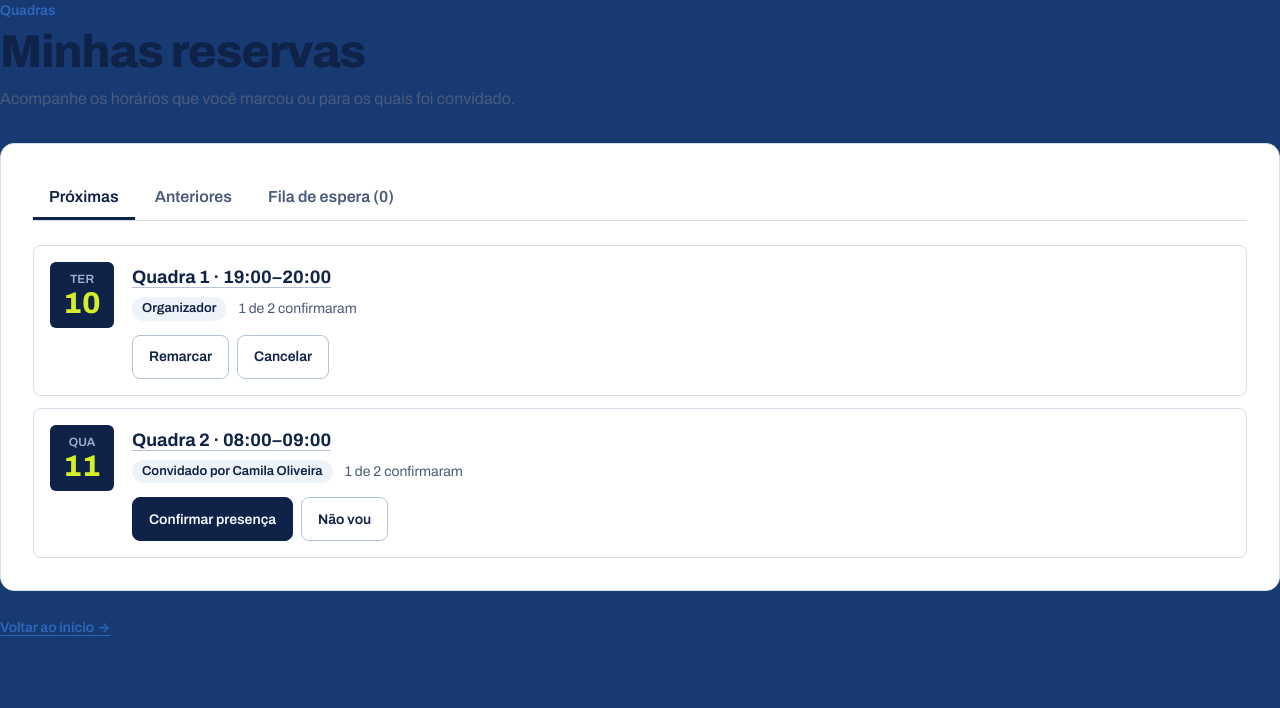
Test: BookingsPage cancelamento › cancelar pede confirmação e "Manter reserva" não altera nada e devolve o foco
This screenshot has width=1280, height=708.
What coordinates should you click on to do the following:
click the button with aria-label "Cancelar reserva da Quadra 1 em ter., 10 de nov. 19:00"
I would click on:
 (283, 357)
Its box is [237, 335, 329, 379].
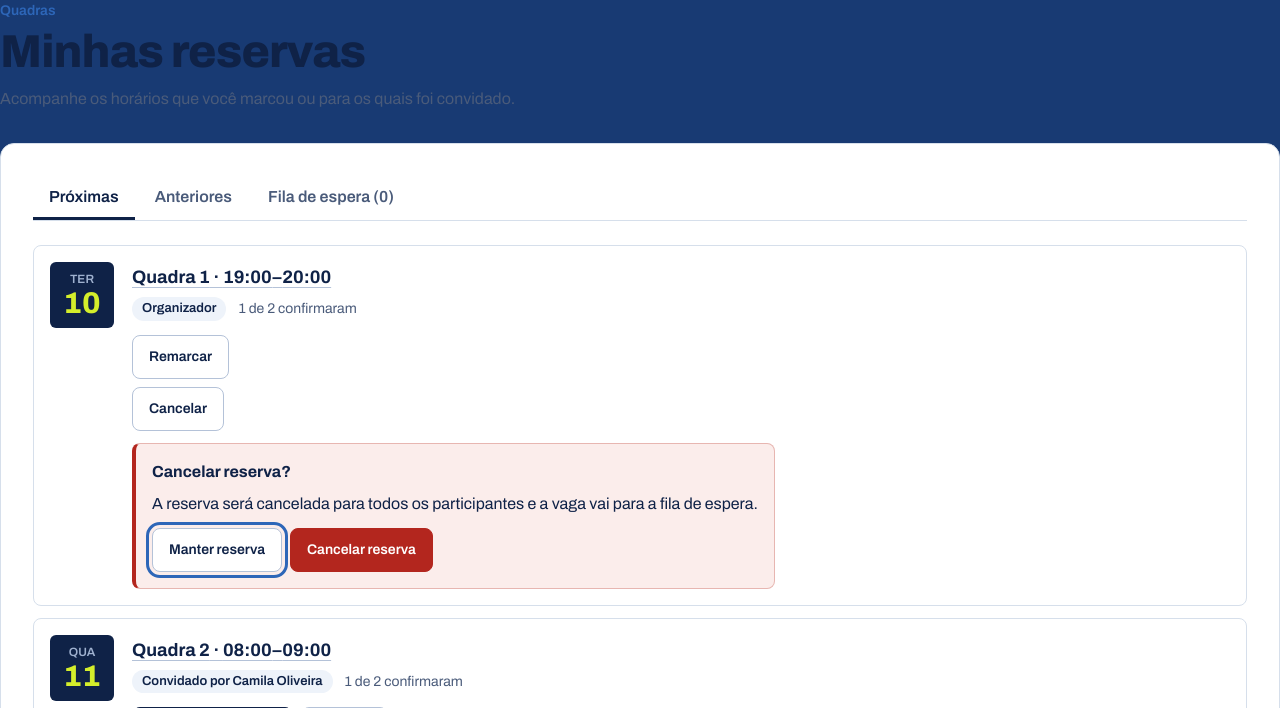
Expected: the text "A reserva será cancelada para todos os participantes e a vaga vai para a fila de espera." is shown, [152, 495, 758, 512]
What coordinates should you click on to do the following:
click the button "Manter reserva"
I would click on:
 (217, 550)
Its box is [152, 528, 282, 572].
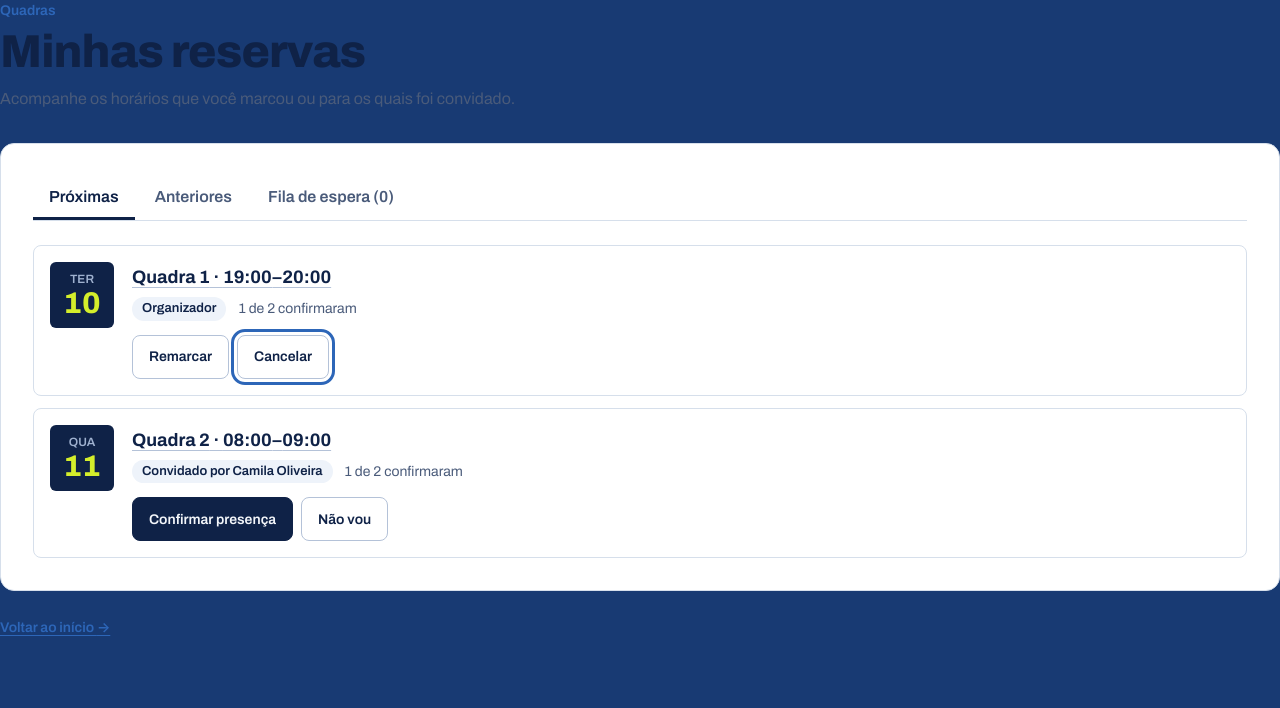
Expected: the link "Quadra 1 · 19:00–20:00" is shown, [132, 267, 331, 287]
Expected: the dialog is gone
